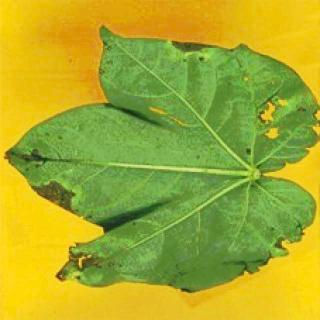blight: (5, 140, 80, 214)
